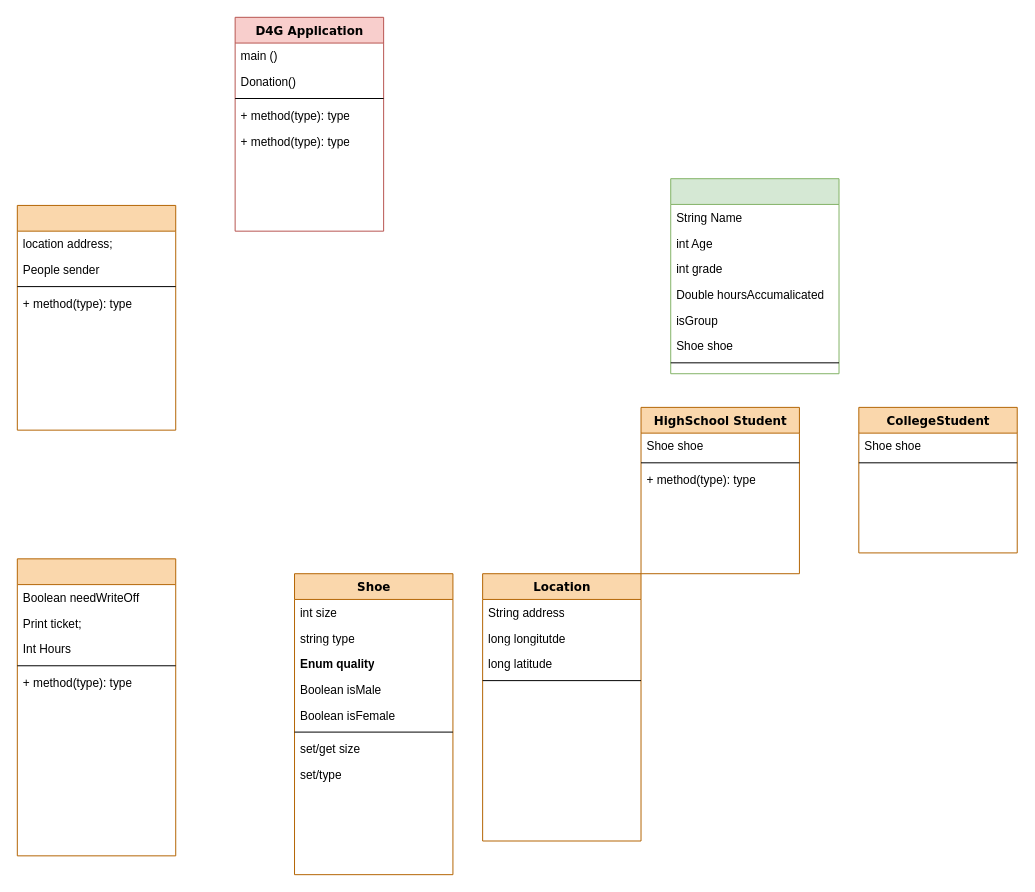
Image size: 1035x892. Some labels were removed from this diagram. The shapes that lost their labels are listed below. From the top down, each one's box as (x1, y1, x2, y2) in pixels, then its label:
(670, 178, 839, 374): People
(16, 204, 176, 430): Print
(16, 558, 176, 856): Donation
